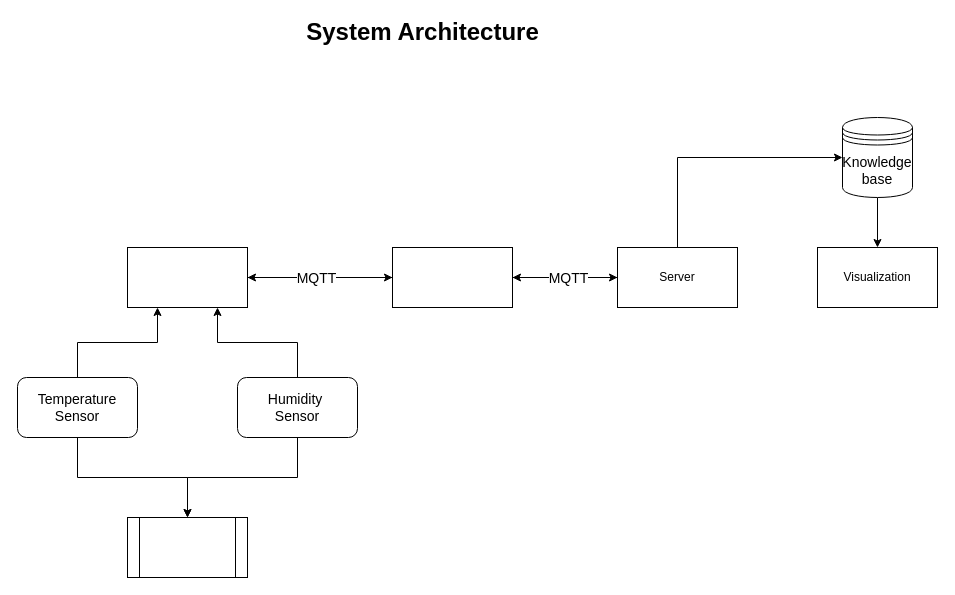
Image size: 955x595. Some labels were removed from this diagram. Here are the shapes that lost their labels. From the top down, the centre of each, then its label:
(187,277): Client (Rpi)
(452,277): MQTT Broker
(187,547): Process
